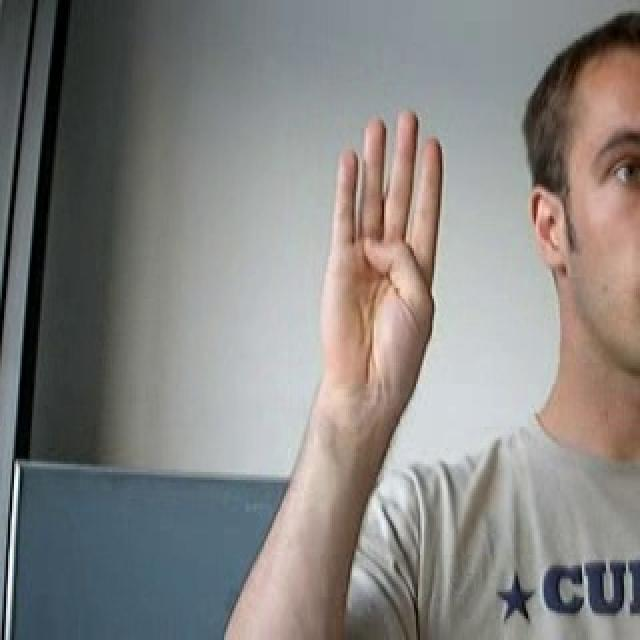B: (313, 109, 458, 409)
